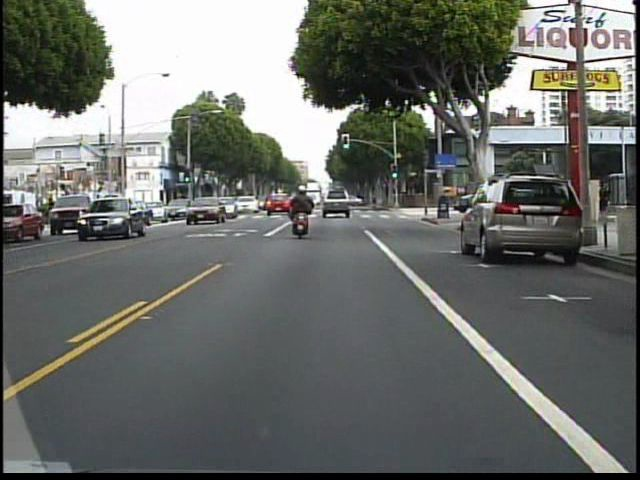person: (288, 182, 320, 238)
